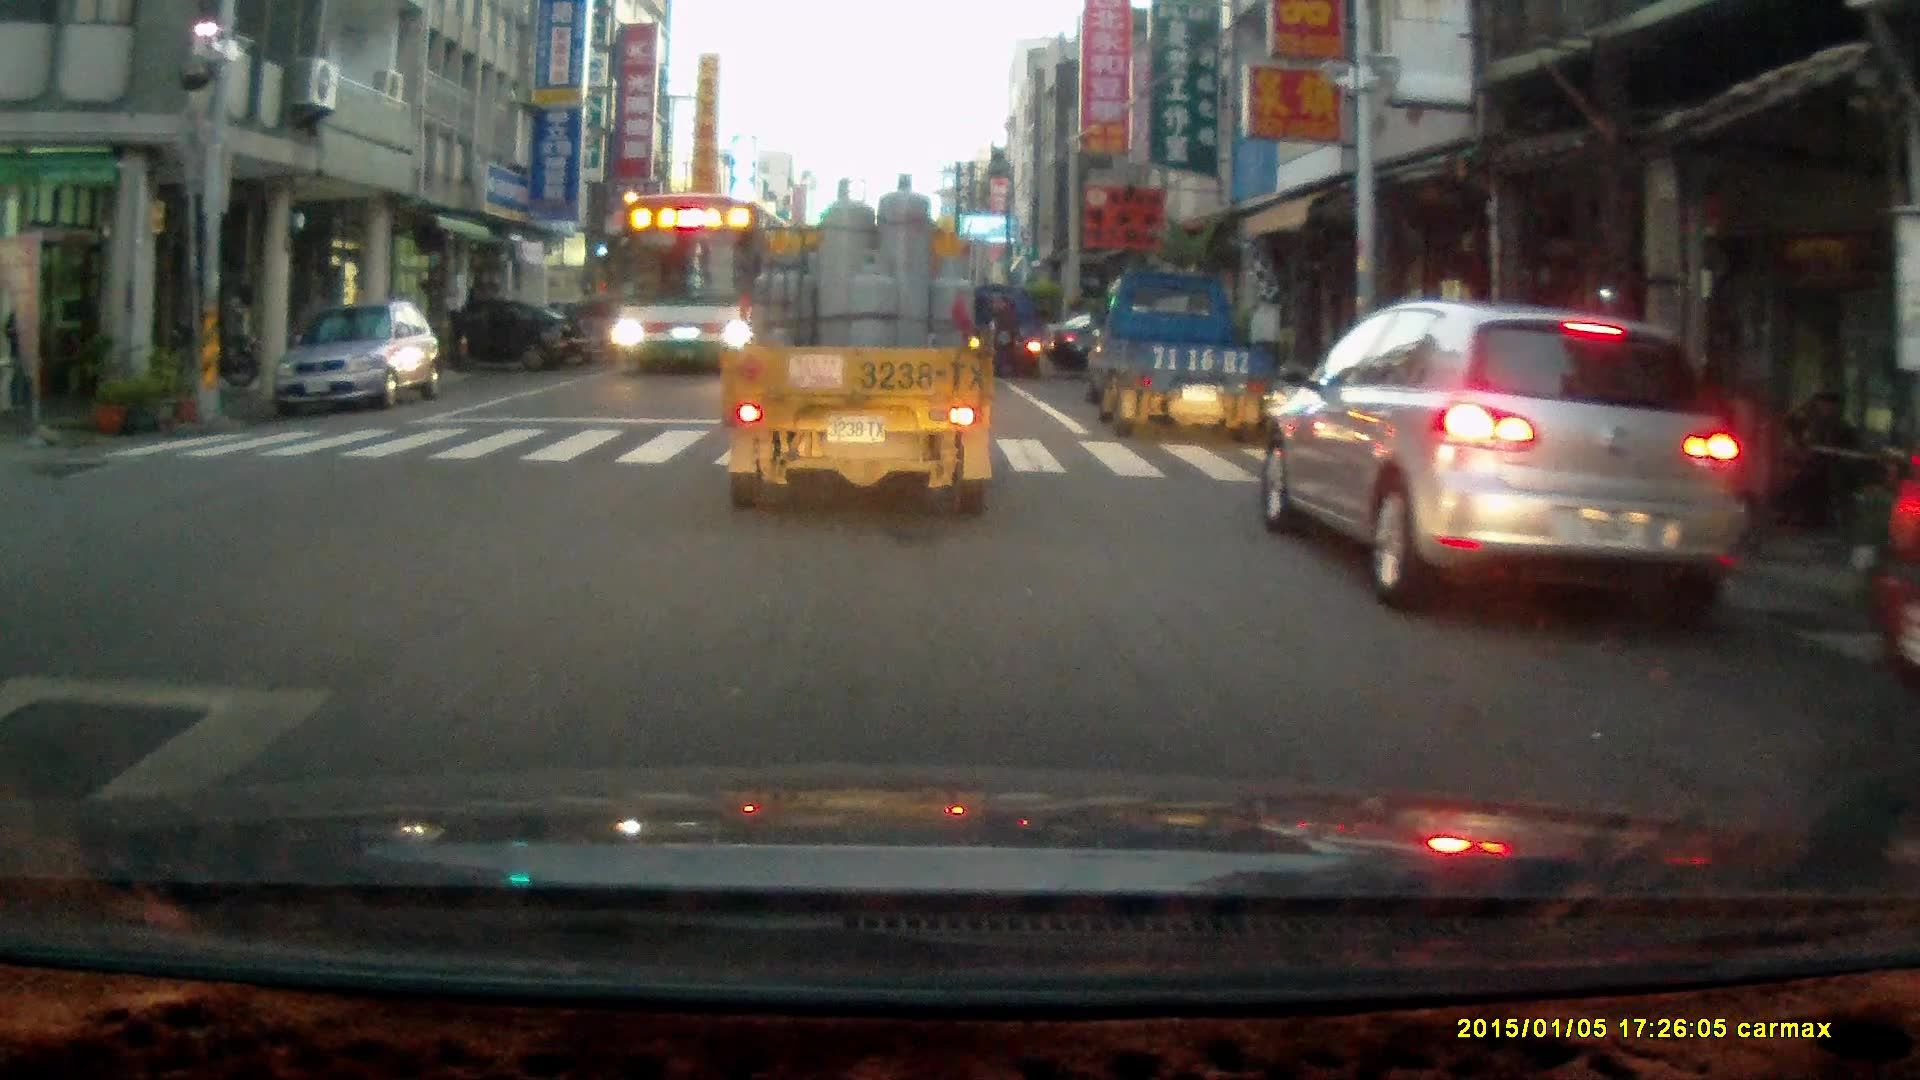pedestrian: (988, 288, 1026, 382)
vehicle: (1263, 298, 1743, 624), (726, 171, 995, 522), (603, 196, 783, 381), (1083, 265, 1268, 437), (268, 301, 443, 420), (392, 297, 592, 373), (563, 294, 661, 365)
